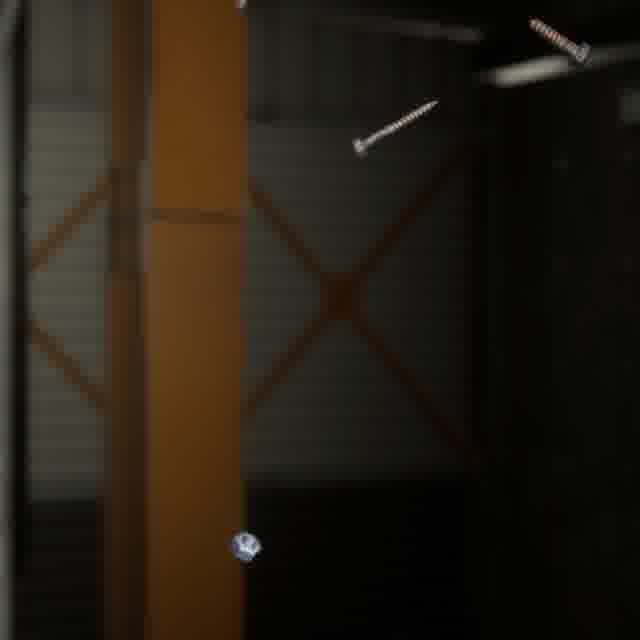bolt: (347, 95, 442, 163), (524, 14, 595, 73)
nut: (225, 526, 266, 566)
